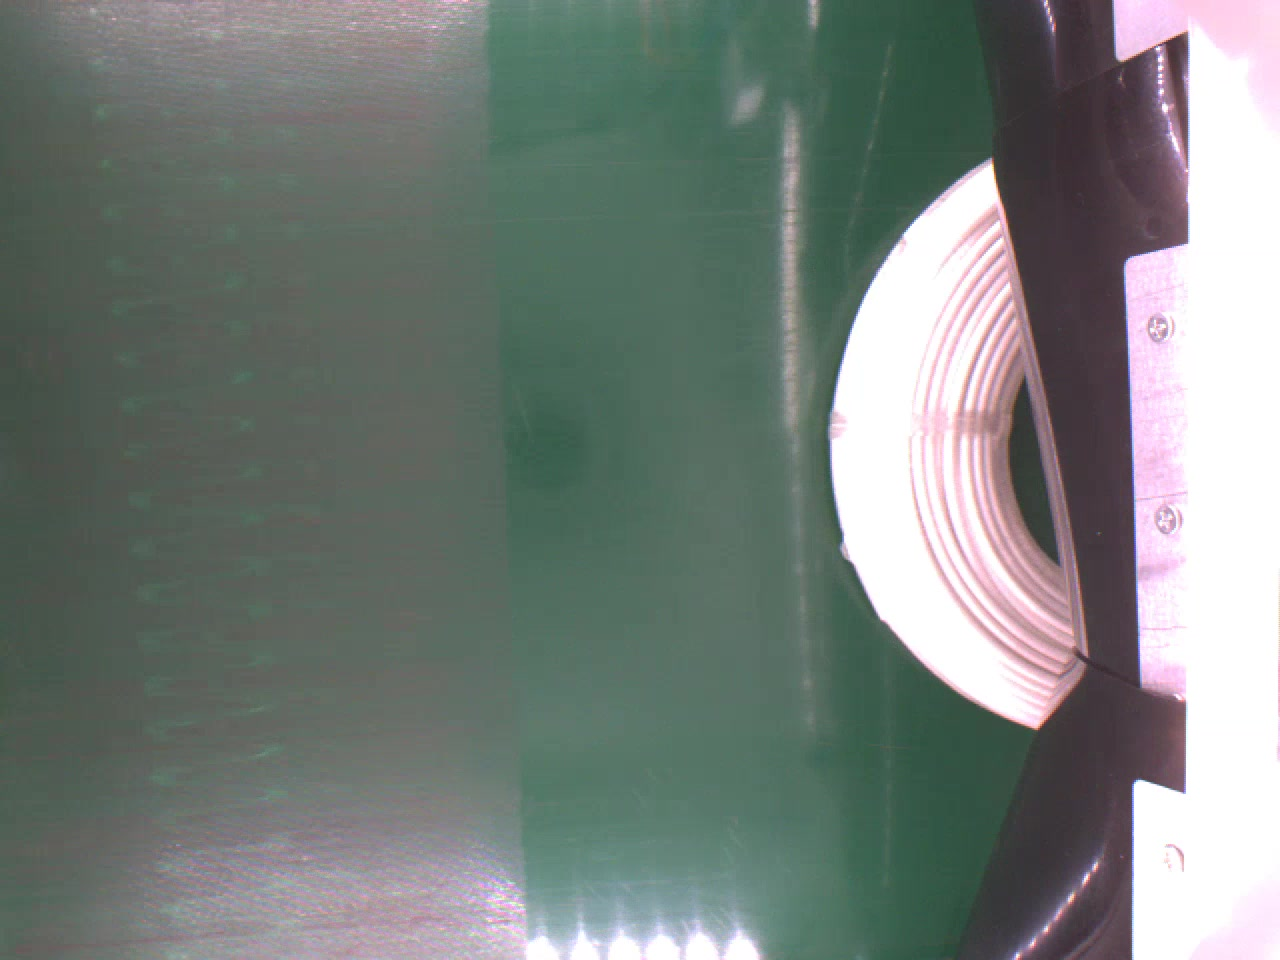white: (827, 151, 1076, 726)
